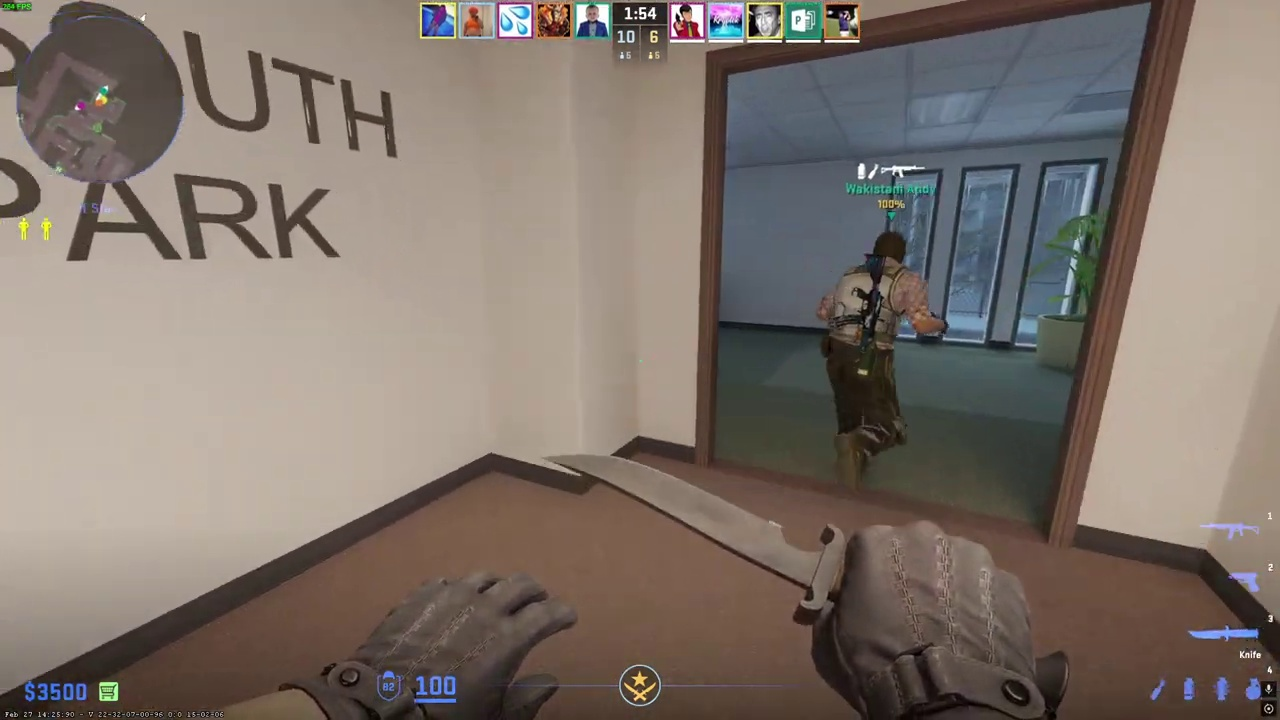Terrorist: (821, 228, 924, 491)
